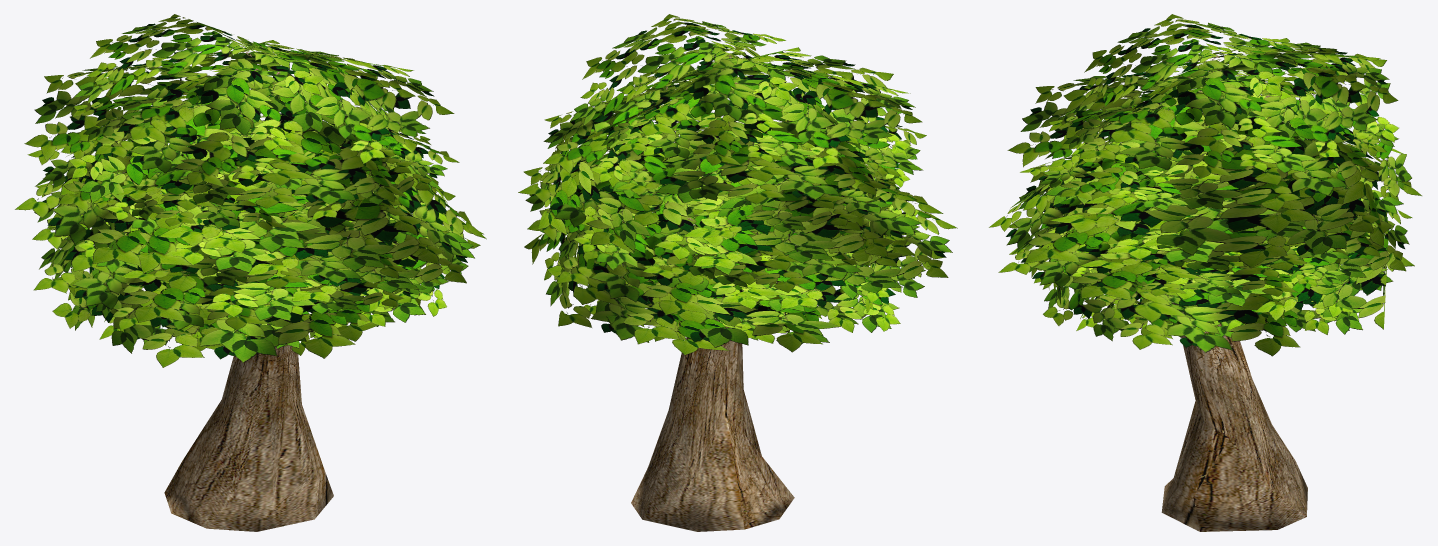
The model's file is tree 10.fbx.
3 views of the same model, side by side, from view 1: azimuth 30°, elevation 25°; view 2: azimuth 150°, elevation 25°; view 3: azimuth 270°, elevation 25° (orthographic). The views are drawn at different scales.
Visible parts, largest first — view 1: tree 10; view 2: tree 10; view 3: tree 10.
Part boxes in pixels (x1,y1,x2,y2): tree 10: (15, 14, 486, 531); tree 10: (518, 14, 957, 531); tree 10: (989, 14, 1421, 531).
Size of the model in its own units: 438 by 463 by 414.
